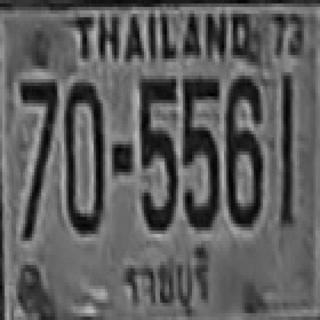N00: (64, 79, 103, 230)
N01: (279, 72, 290, 220)
N05: (137, 76, 176, 227), (180, 76, 217, 227)
N06: (224, 74, 260, 226)
N07: (18, 77, 55, 232), (18, 77, 55, 177)
P52: (118, 242, 220, 320)
